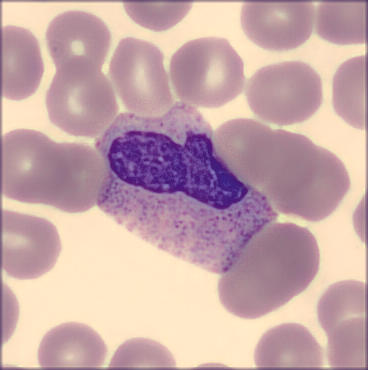WBC: (94, 100, 283, 276)
